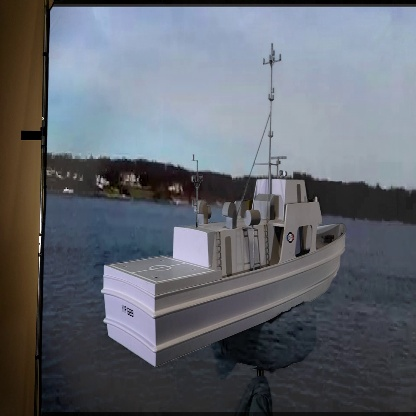YP689: (100, 45, 348, 367)
